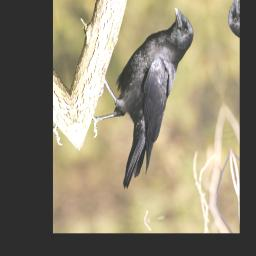Crow: (72, 0, 217, 194)
